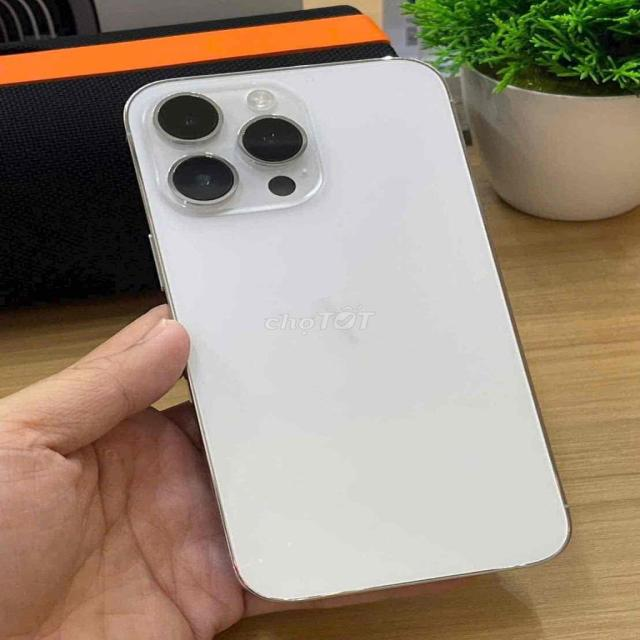gen_14: (121, 53, 583, 604)
